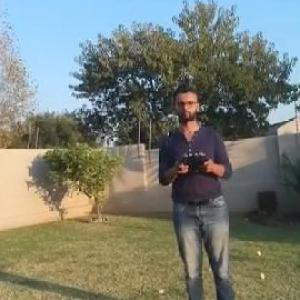follow: (156, 78, 248, 299)
